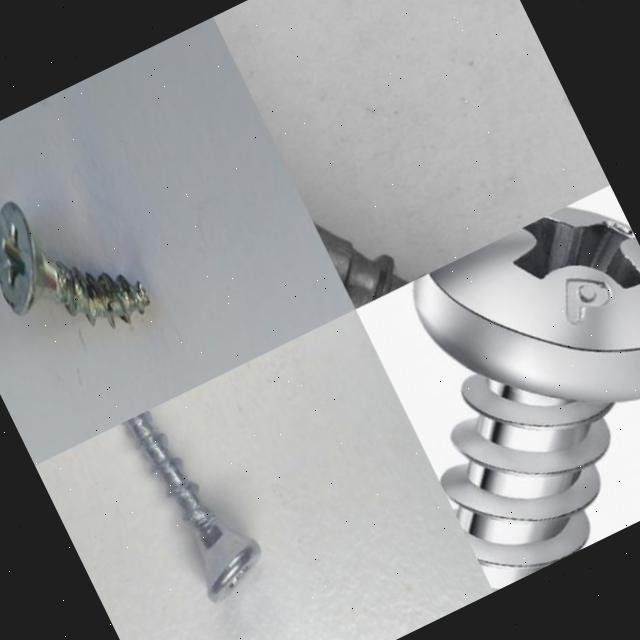Screw: (213, 0, 556, 308), (411, 199, 640, 592), (123, 410, 261, 602), (0, 200, 150, 327)
